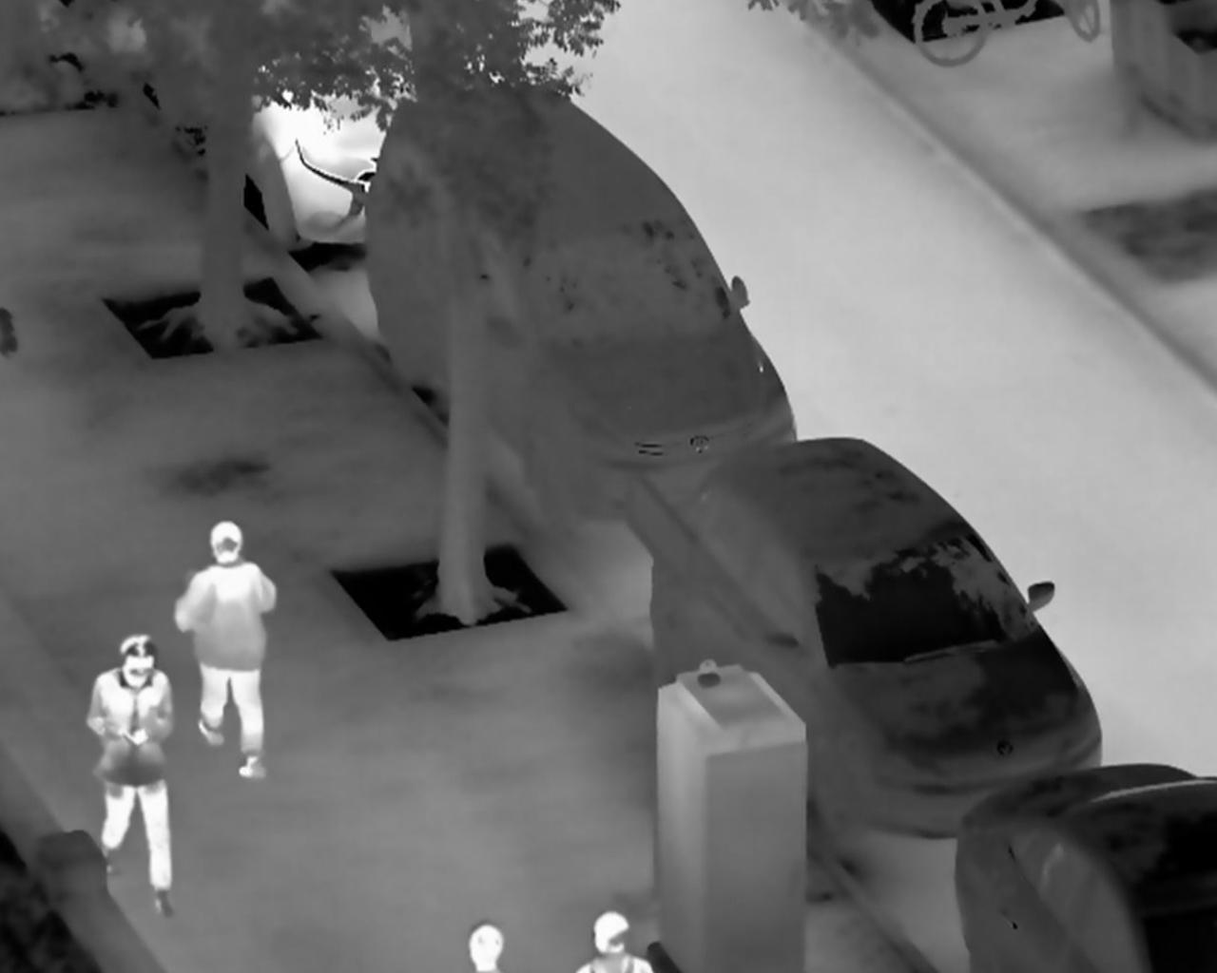person: (173, 518, 277, 784), (87, 632, 181, 919)
